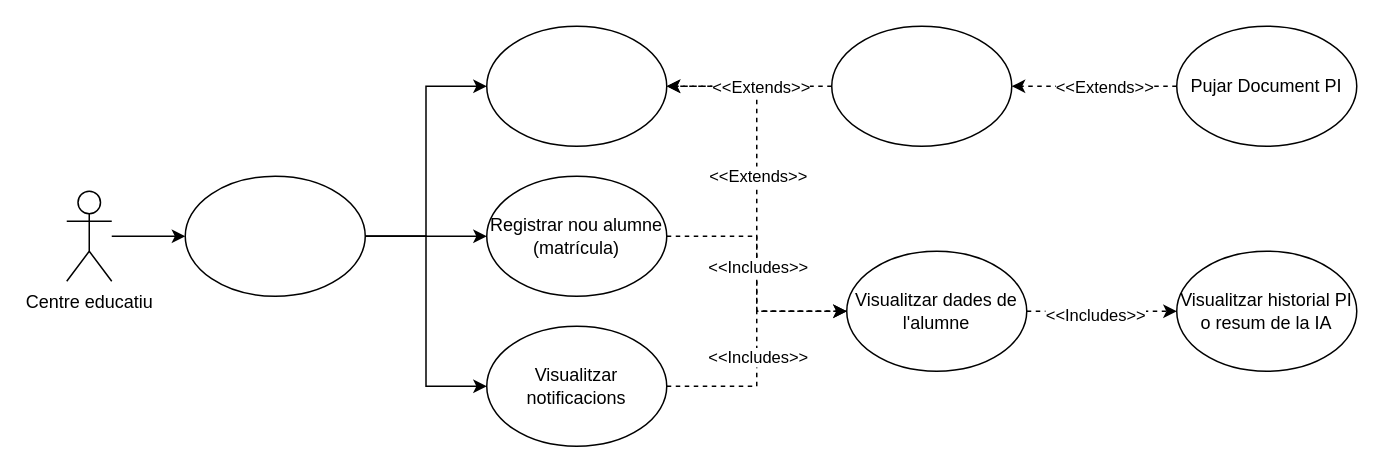
Some shapes in this 1383 by 473 pixel diagram are drawn without their labels. The shapes that lost their labels are listed below. From the top down, each one's box as (x1, y1, x2, y2) in pixels, then its label:
(485, 25, 667, 146): Visualitzar llista d'alumnes
(830, 25, 1012, 146): Cercar alumne (per RALC)
(184, 175, 365, 296): Registrar-se o loguejar-se a l'aplicació
